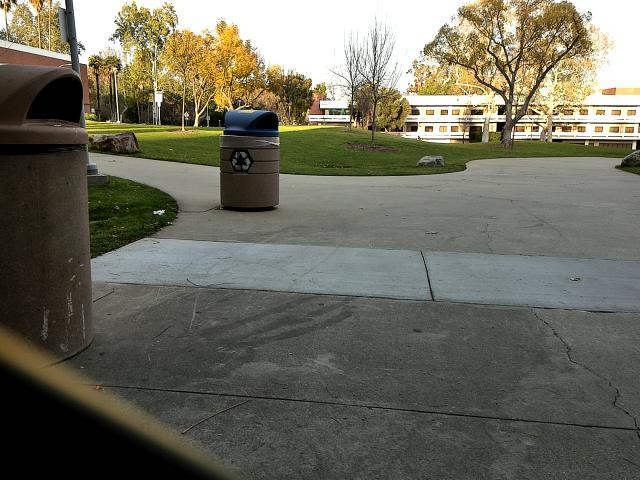trashcan: (1, 66, 93, 367), (215, 105, 293, 219)
